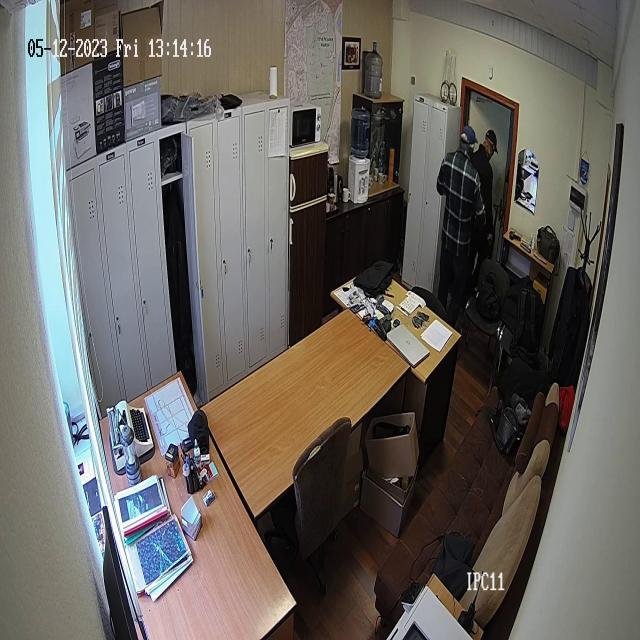pistol: (504, 224, 522, 244)
